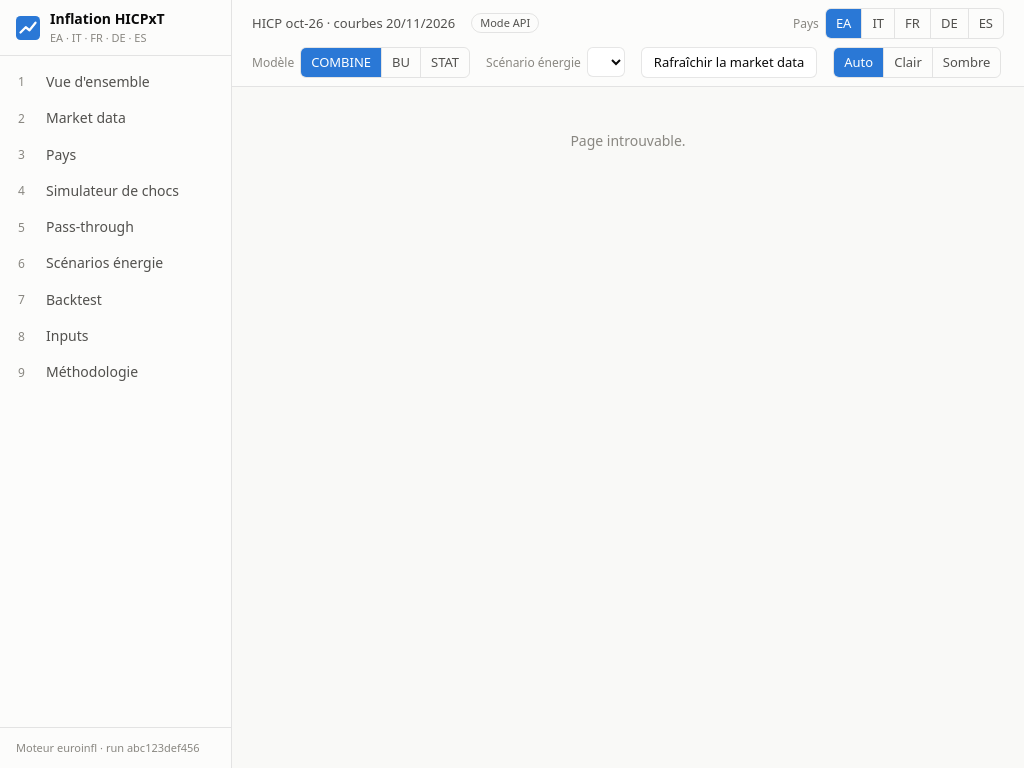
Test: layout › le sélecteur de pays met à jour le store
Step 1. Click the button "IT" → (878, 23), box [861,9,894,38]
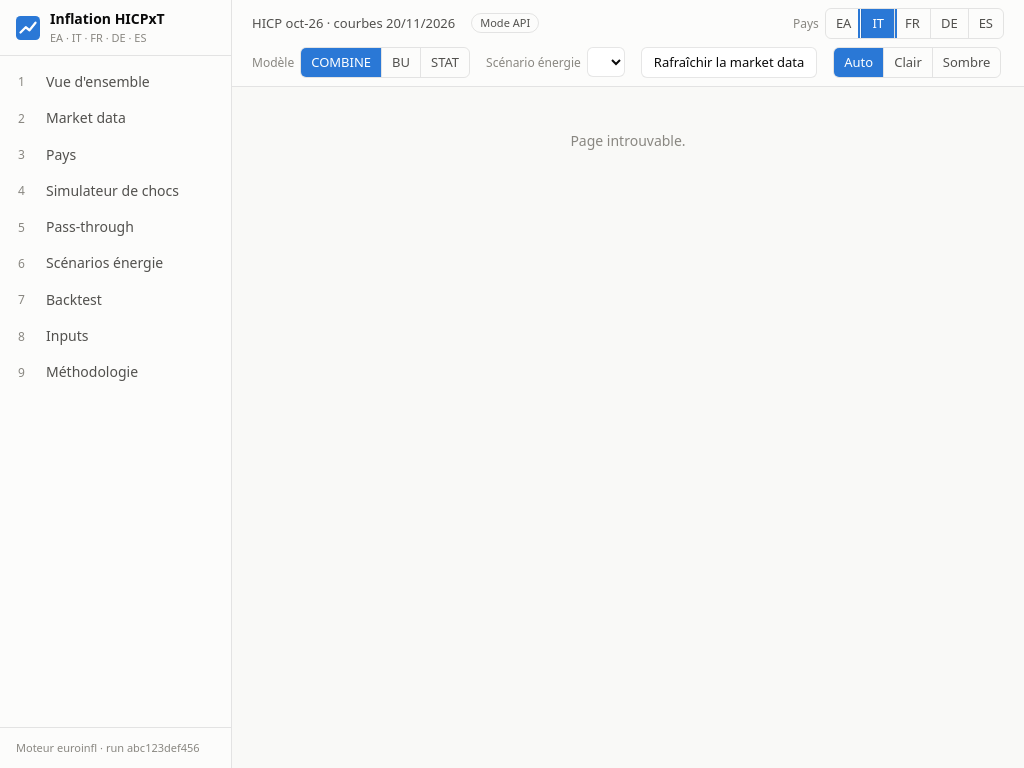
Now the button "IT" is pressed, box [861,9,894,38]
